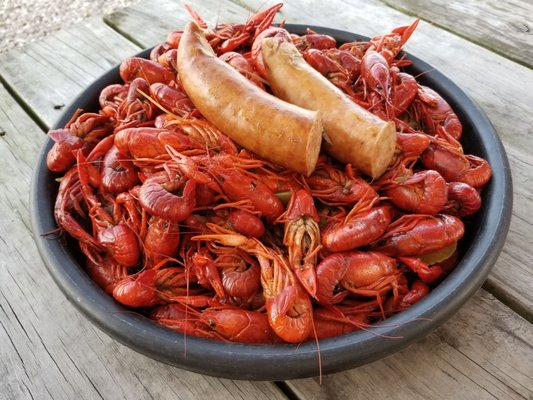sushi: (28, 0, 515, 383)
